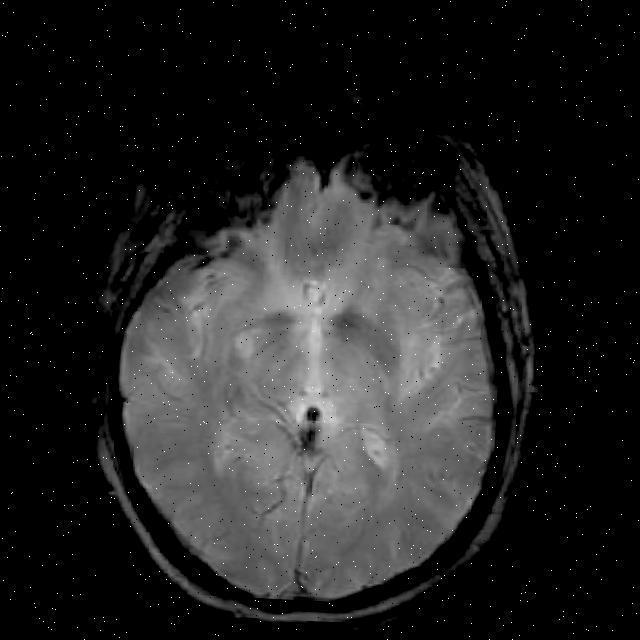LMCI: (204, 221, 258, 284)
MCI: (371, 208, 455, 268)
